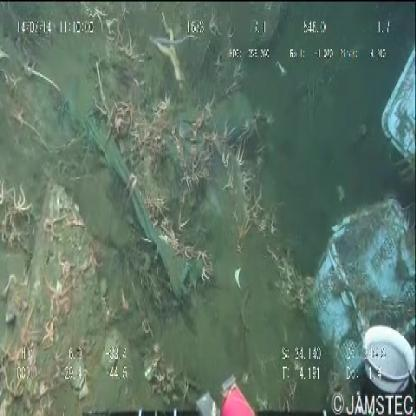Rov: (74, 319, 416, 416)
Rác: (296, 14, 416, 320)
